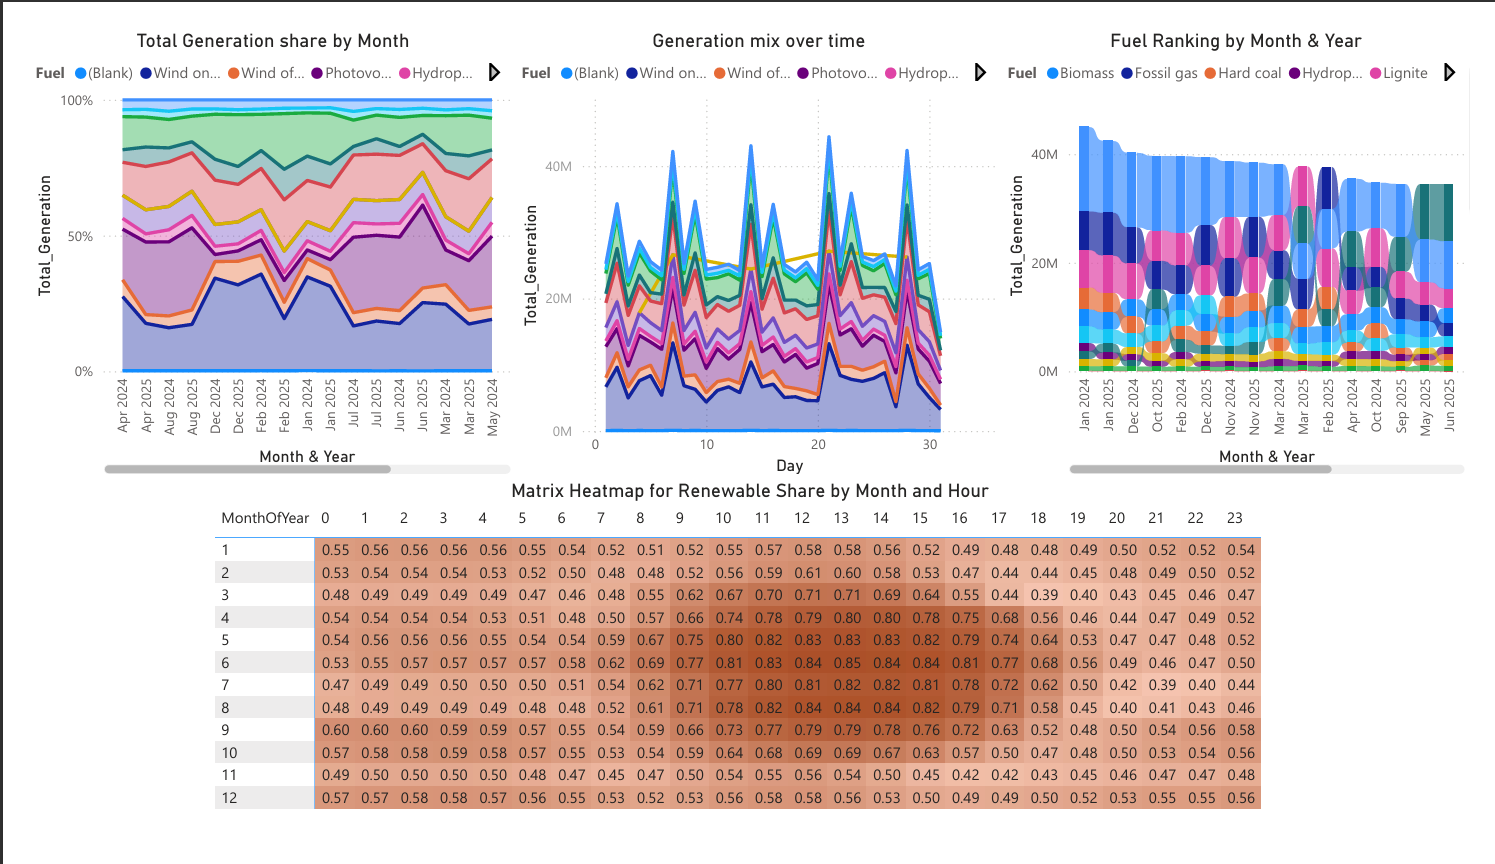

What the dashboard file says about the page in this screenshot:
{"tool":"powerbi","page":{"name":"Generation mix","canvas":[1280,720],"ordinal":1},"visuals":[{"type":"stackedAreaChart","title":"Generation mix over time","fields":{"Series":["FuelType.Fuel"],"Y":["Measurestbl.Total_Generation"],"Category":["DateTable.WeekEnding.Variation.Date Hierarchy.Year","DateTable.WeekEnding.Variation.Date Hierarchy.Quarter","DateTable.WeekEnding.Variation.Date Hierarchy.Month","DateTable.WeekEnding.Variation.Date Hierarchy.Day"]},"box":[432,0,432,400],"z":0},{"type":"hundredPercentStackedAreaChart","title":"Total Generation share by Month","fields":{"Y":["Measurestbl.Total_Generation"],"Series":["FuelType.Fuel"],"Category":["DateTable.Month & Year"]},"box":[0,0,432,400],"z":1000},{"type":"ribbonChart","title":"Fuel Ranking by Month & Year","fields":{"Y":["Measurestbl.Total_Generation"],"Series":["Generation.Fuel"],"Category":["DateTable.Month & Year"]},"box":[864,0,416,400],"z":2000},{"type":"pivotTable","title":"Matrix Heatmap for Renewable Share by Month and Hour","fields":{"Rows":["DateTable.MonthOfYear"],"Values":["Measurestbl.Renewable Share %"],"Columns":["Market.hour"]},"box":[160,400,960,320],"z":3000}]}

Visuals, with their boxes in screenshot pixels (x1, y1, x2, y2), scaled from the page's 1280x720 canvas onto the 1495x864 screenshot:
"Generation mix over time" stackedAreaChart: x1=505 y1=0 x2=1009 y2=480
"Total Generation share by Month" hundredPercentStackedAreaChart: x1=0 y1=0 x2=505 y2=480
"Fuel Ranking by Month & Year" ribbonChart: x1=1009 y1=0 x2=1494 y2=480
"Matrix Heatmap for Renewable Share by Month and Hour" pivotTable: x1=187 y1=480 x2=1308 y2=863
